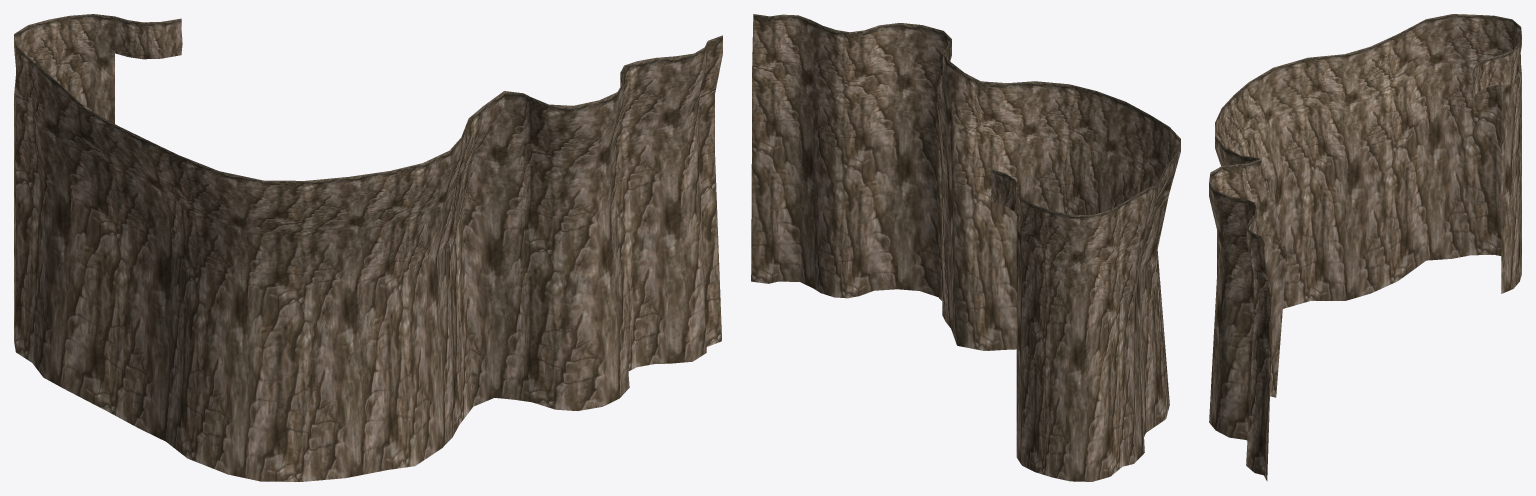
The model's file is OVERHILL_A_01_LINE79.fbx.
3 views of the same model, side by side, from view 1: azimuth 30°, elevation 25°; view 2: azimuth 150°, elevation 25°; view 3: azimuth 270°, elevation 25° (orthographic). The views are drawn at different scales.
Visible parts, largest first — view 1: OVERHILL_A_01_LINE79; view 2: OVERHILL_A_01_LINE79; view 3: OVERHILL_A_01_LINE79.
Boxes of the visible parts, x1=… form: OVERHILL_A_01_LINE79: x1=14, y1=14, x2=722, y2=481; OVERHILL_A_01_LINE79: x1=751, y1=14, x2=1180, y2=481; OVERHILL_A_01_LINE79: x1=1209, y1=14, x2=1521, y2=481.
Size of the model in its own units: 326413 by 193551 by 201313.
2 materials, 2 textured.
